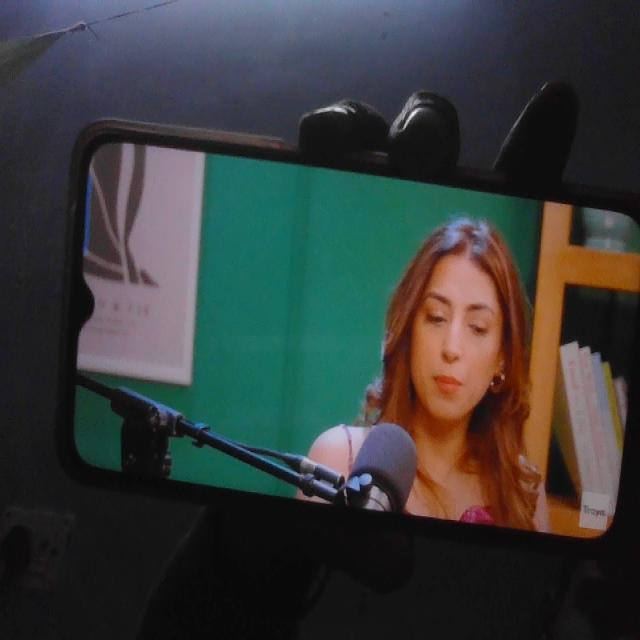fake: (399, 223, 505, 424)
